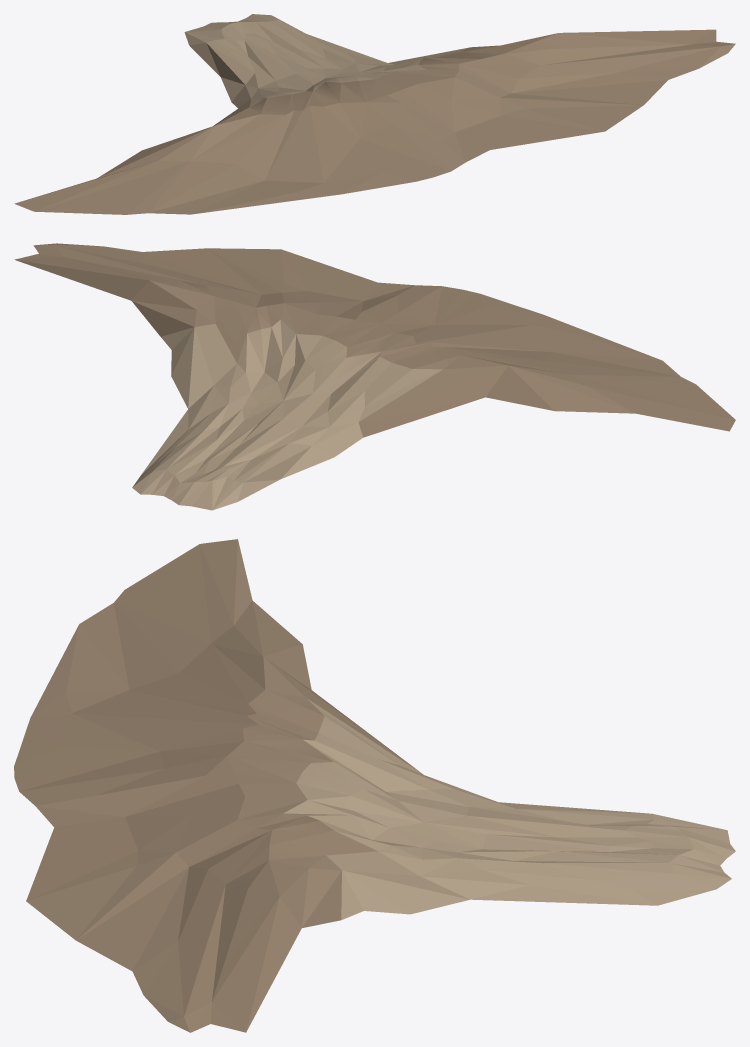
The model's file is SM_Env_DirtRoad_Exit_01.fbx.
3 renders of one model, top to bottom at view 1: azimuth 30°, elevation 25°; view 2: azimuth 150°, elevation 25°; view 3: azimuth 270°, elevation 25°, orthographic. The views are drawn at different scales.
Visible parts, largest first — view 1: SM_Env_DirtRoad_Exit_01; view 2: SM_Env_DirtRoad_Exit_01; view 3: SM_Env_DirtRoad_Exit_01.
Part boxes in pixels (x1,y1,x2,y2): SM_Env_DirtRoad_Exit_01: (14,14,735,214); SM_Env_DirtRoad_Exit_01: (14,243,735,510); SM_Env_DirtRoad_Exit_01: (14,539,735,1032).
Size of the model in its own units: 1519 by 137 by 938.
